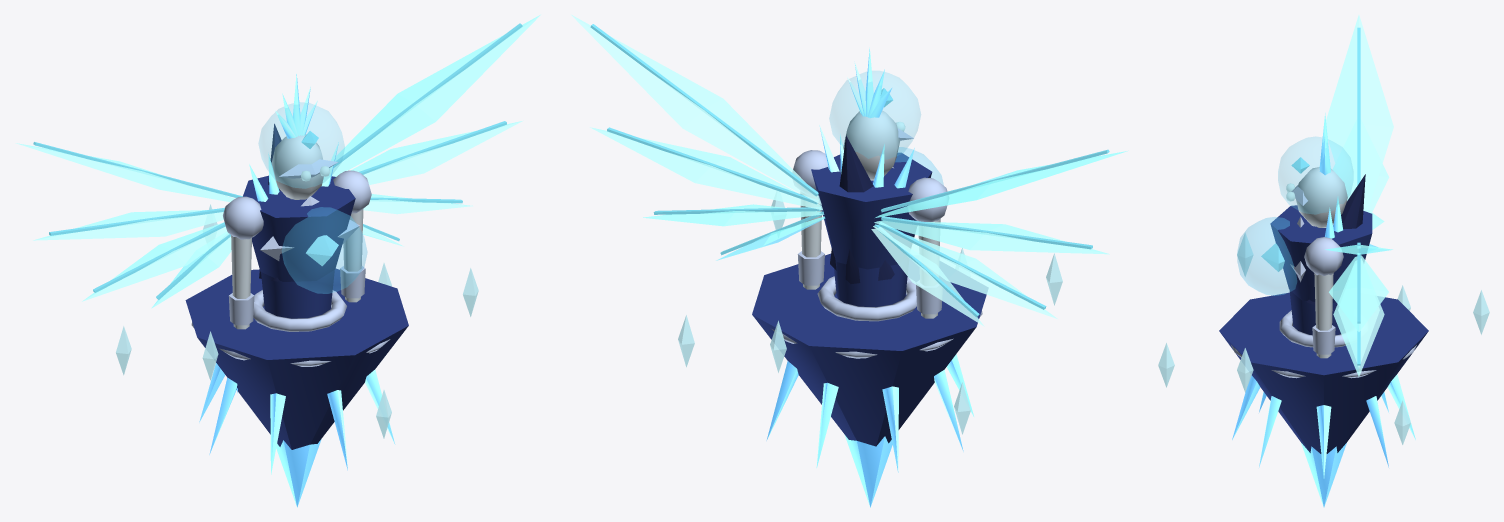
Rendered from BO_SK_Boss_Matriarch_v001.glb.
3 renders of one model, left to right at view 1: azimuth 30°, elevation 25°; view 2: azimuth 150°, elevation 25°; view 3: azimuth 270°, elevation 25°, orthographic. The views are drawn at different scales.
Visible parts, largest first — view 1: body_001, body_013, body_058, glowfx_048, glowfx_016, body_060, body_052, body_012, body_054, body_038, body_050, body_011 (+18 smaller); view 2: body_001, body_013, body_058, glowfx_048, body_060, body_052, body_054, body_038, body_012, body_050, body_011, body_062 (+21 smaller); view 3: body_001, body_050, glowfx_048, body_013, glowfx_016, body_060, body_038, body_062, body_000, body_022, body_012, body_030 (+18 smaller).
Boxes of the visible parts, x1,y1,x2,y2 form: body_001: [185, 268, 408, 449]; body_013: [243, 175, 355, 281]; body_058: [332, 14, 540, 176]; glowfx_048: [258, 102, 344, 188]; glowfx_016: [282, 207, 367, 293]; body_060: [350, 120, 523, 184]; body_052: [33, 210, 223, 240]; body_012: [261, 270, 334, 318]; body_054: [82, 222, 229, 301]; body_038: [271, 134, 323, 199]; body_050: [15, 143, 234, 202]; body_011: [253, 290, 346, 331]; body_001: [752, 253, 987, 446]; body_013: [811, 152, 932, 269]; body_058: [571, 14, 821, 205]; glowfx_048: [829, 71, 920, 159]; body_060: [590, 127, 822, 210]; body_052: [874, 220, 1109, 254]; body_054: [873, 226, 1057, 318]; body_038: [843, 110, 900, 179]; body_012: [834, 258, 908, 307]; body_050: [875, 150, 1128, 217]; body_011: [817, 276, 916, 321]; body_062: [643, 204, 824, 226]; body_001: [1219, 292, 1428, 453]; body_050: [1326, 15, 1393, 211]; glowfx_048: [1278, 136, 1353, 214]; body_013: [1270, 205, 1372, 302]; glowfx_016: [1237, 217, 1296, 295]; body_060: [1329, 255, 1388, 331]; body_038: [1296, 167, 1347, 227]; body_062: [1333, 304, 1384, 376]; body_000: [1301, 443, 1346, 507]; body_022: [1304, 237, 1343, 275]; body_012: [1289, 290, 1344, 335]; body_030: [1314, 273, 1333, 326].
Bounding box in the file's own units: 4.74 × 3.74 × 2.84.
